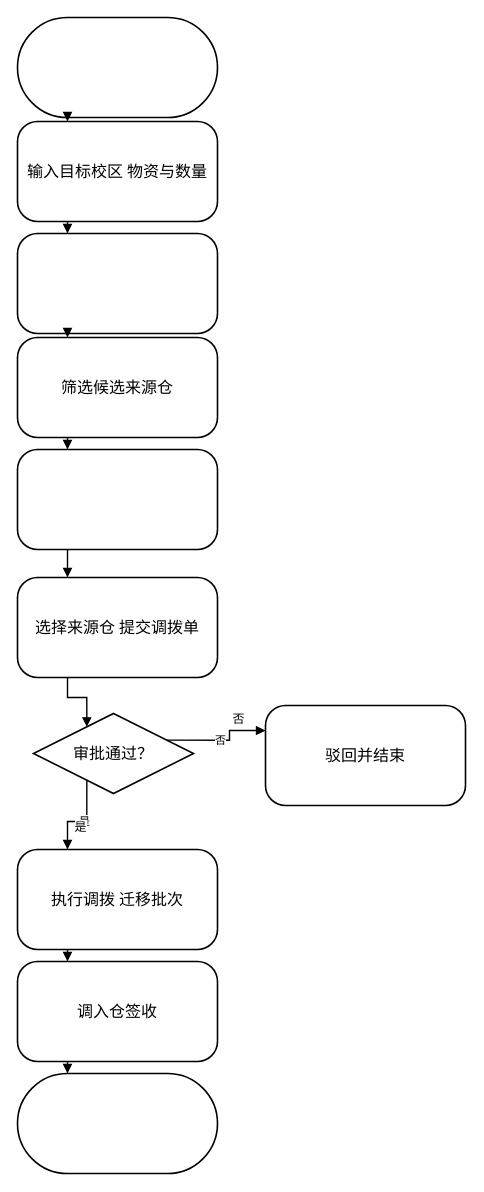
This 484x1192 diagram has some shape labels left out. The centre of each missing label's shape, as x and y in pixels:
"发起调拨需求" goes at (x=117, y=67).
"按距离排序 返回推荐结果" goes at (x=117, y=499).
"状态为 RECEIVED" goes at (x=117, y=1123).
"计算最短路径" goes at (x=117, y=283).
